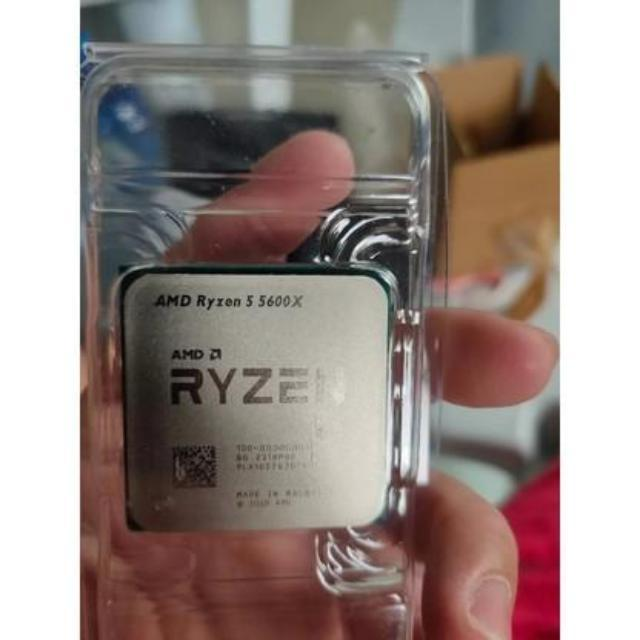CPU: (110, 272, 393, 534)
